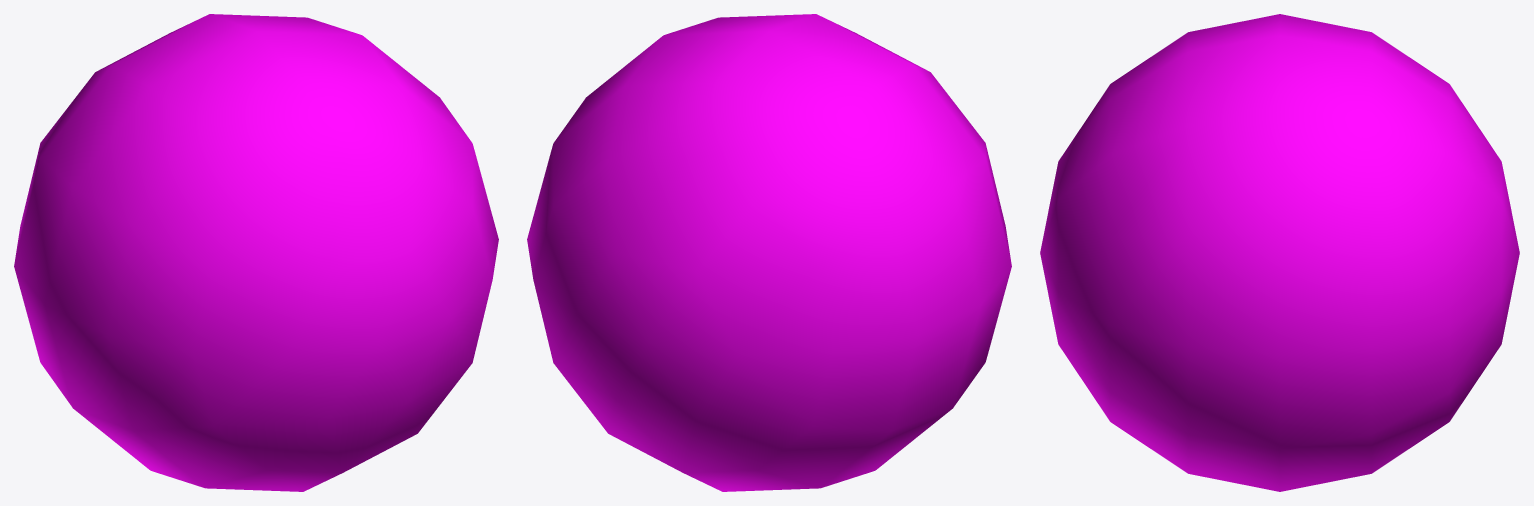
The model's file is ava_handB__ava_handB.glb.
3 renders of one model, left to right at view 1: azimuth 30°, elevation 25°; view 2: azimuth 150°, elevation 25°; view 3: azimuth 270°, elevation 25°, orthographic.
Parts seen in each view (by area): view 1: polygon0; view 2: polygon0; view 3: polygon0.
Boxes of the visible parts, x1,y1,x2,y2 form: polygon0: (14,14,498,491); polygon0: (527,14,1011,491); polygon0: (1040,14,1519,491).
Bounding box in the file's own units: 1.75 × 1.75 × 1.75.
1 material, 1 textured.
